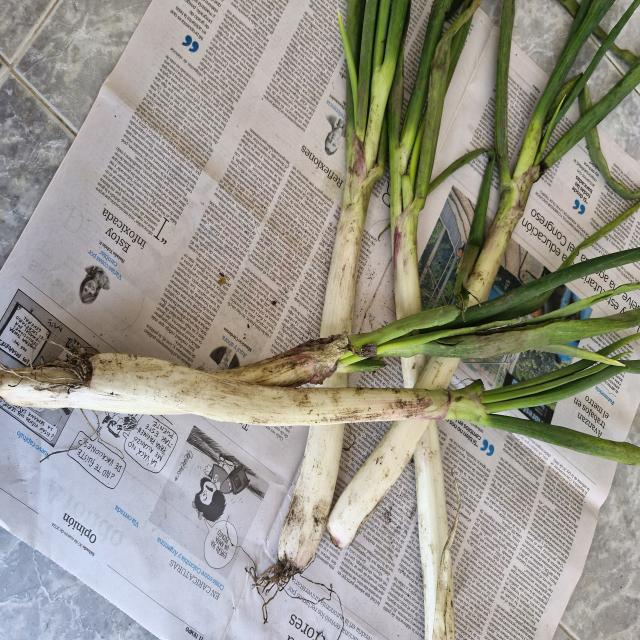green_onion: (0, 328, 640, 424)
